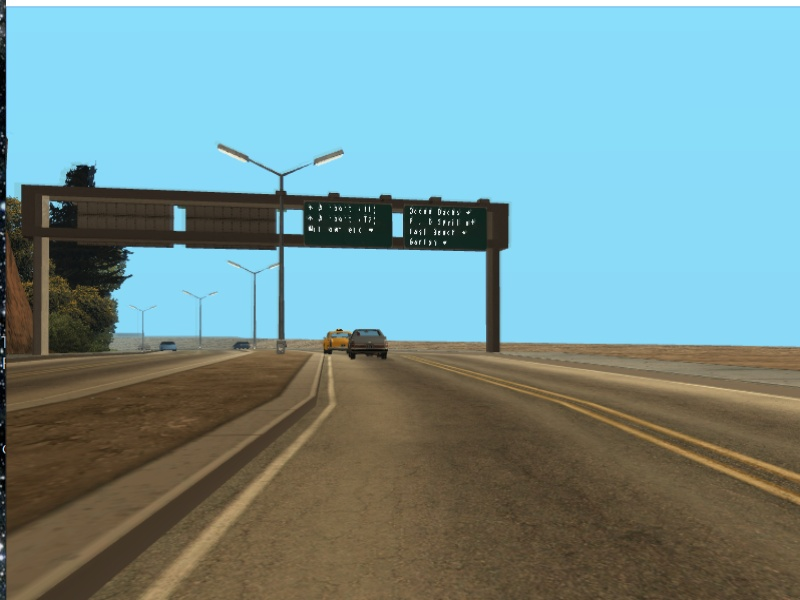pole: (30, 232, 58, 362), (275, 174, 292, 357), (481, 244, 508, 354), (250, 269, 260, 353), (196, 295, 206, 351)
vehicle: (345, 327, 393, 359), (319, 328, 349, 353)
